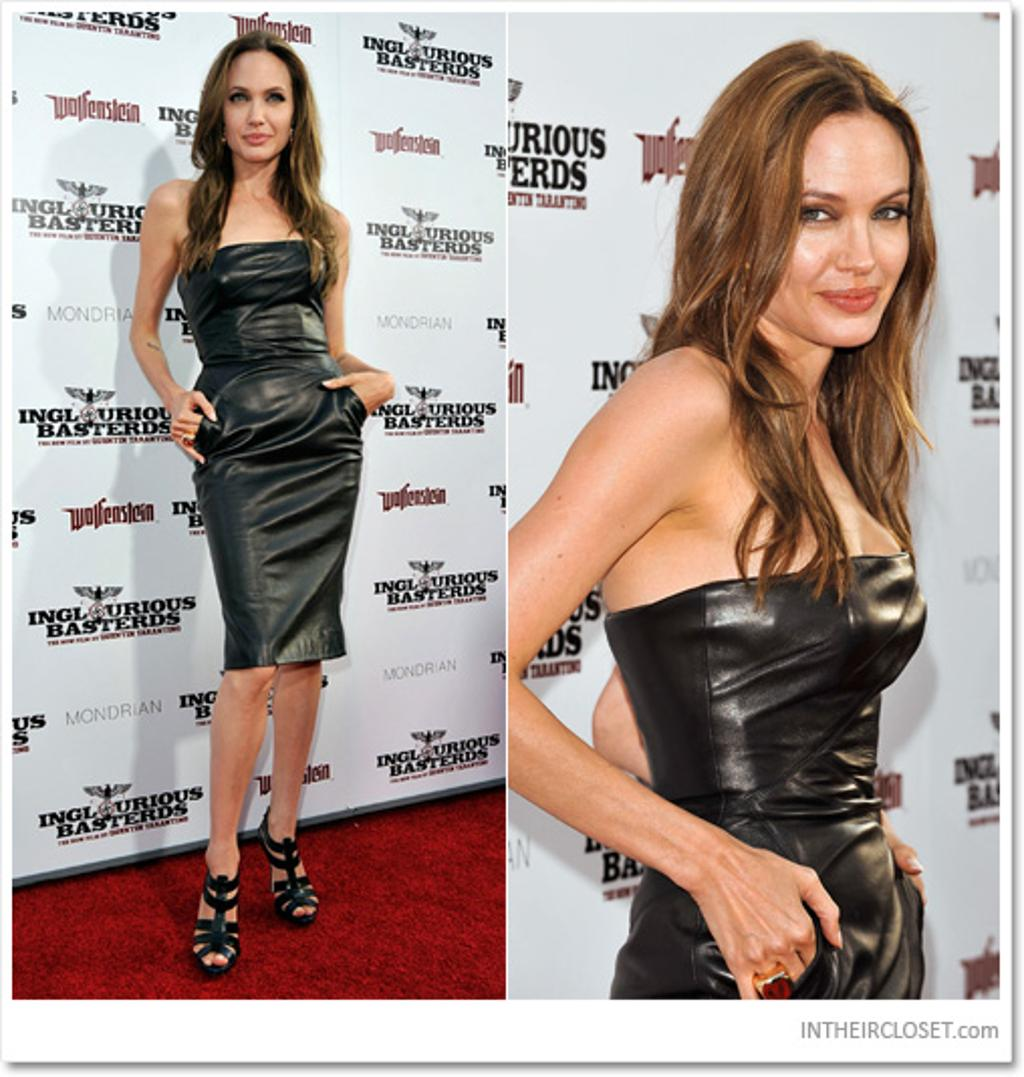face: (751, 114, 909, 349), (223, 55, 297, 162)
